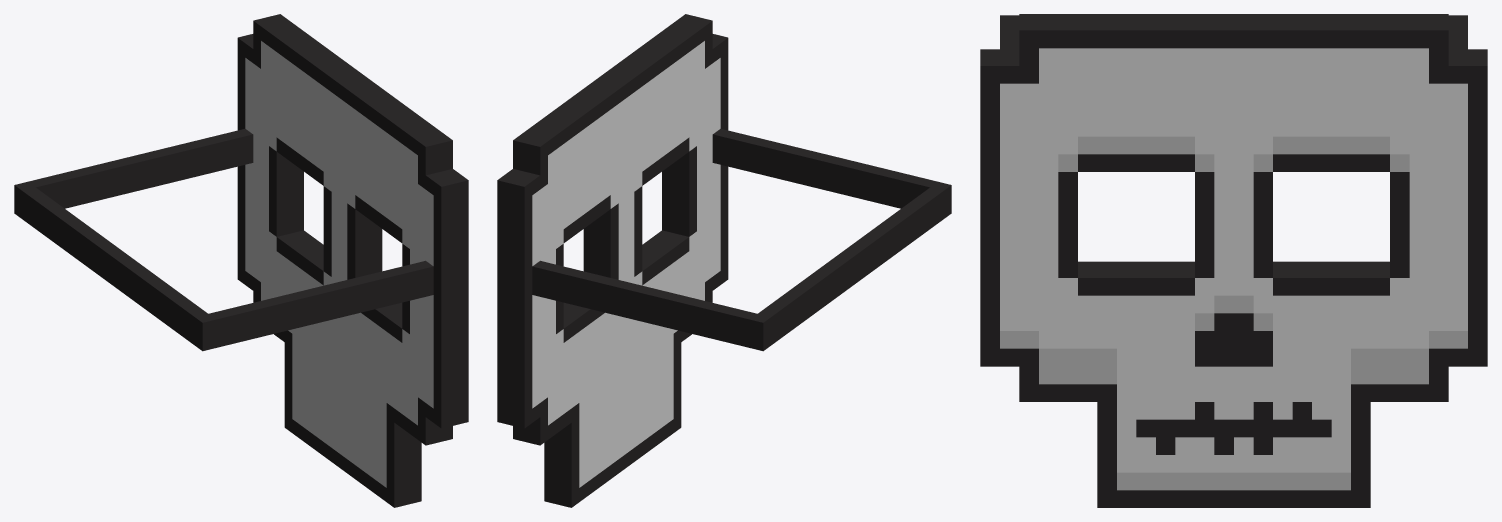
The model's file is av_hat_skull.glb.
3 views of the same model, side by side, from view 1: azimuth 30°, elevation 25°; view 2: azimuth 150°, elevation 25°; view 3: azimuth 270°, elevation 25° (orthographic). The views are drawn at different scales.
Visible parts, largest first — view 1: model; view 2: model; view 3: model.
Boxes of the visible parts, x1,y1,x2,y2 form: model: (14, 14, 468, 507); model: (497, 14, 951, 507); model: (980, 14, 1487, 507).
Size of the model in its own units: 0.1902 by 0.2703 by 0.2603.
Materials: 1 (1 with a texture image).
